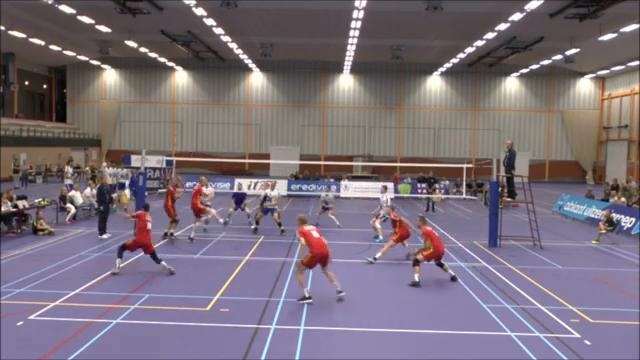Player: (111, 203, 174, 274), (296, 214, 344, 302), (409, 215, 457, 286), (367, 205, 412, 263), (188, 177, 226, 241), (252, 181, 285, 234), (163, 177, 182, 240), (370, 185, 390, 241), (315, 186, 341, 227), (227, 182, 251, 225), (203, 226, 207, 232)
Receive: (109, 197, 181, 278)
ball: (117, 192, 128, 206)
